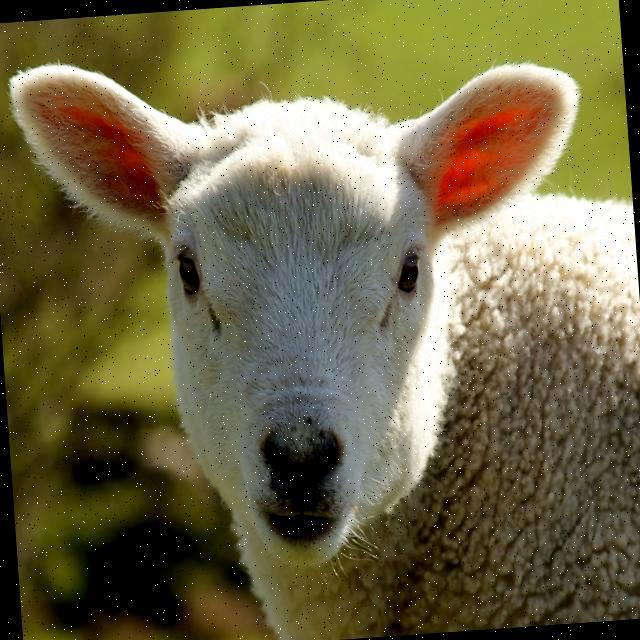sheep: (11, 63, 640, 640)
